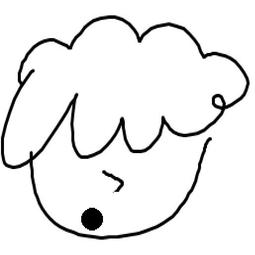open_mouth: (76, 204, 108, 236)
pointy_nose: (99, 167, 133, 194)
